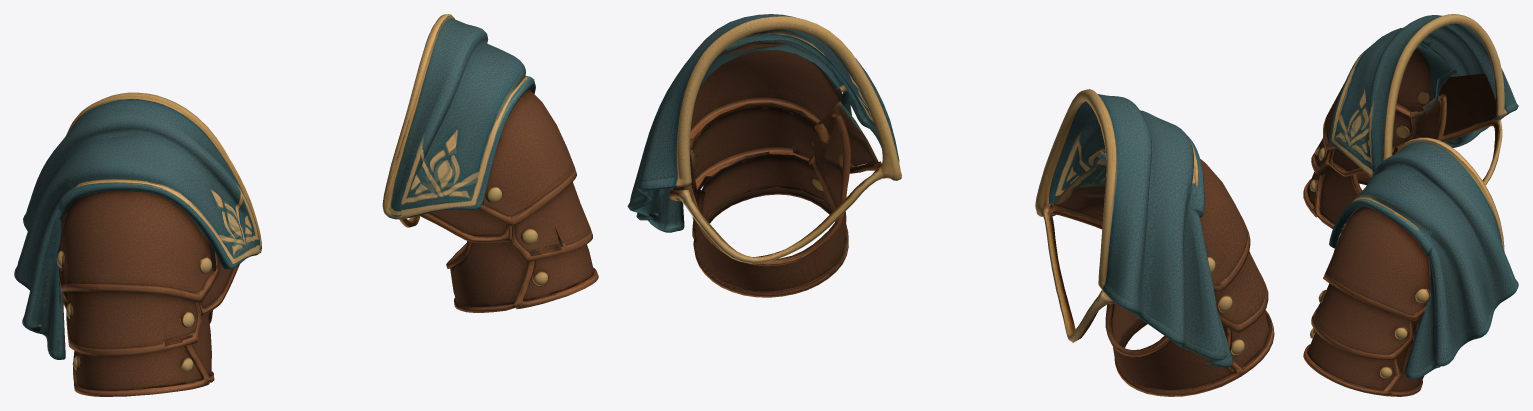
File: warden-pauldrons-tripo.glb
3 renders of one model, left to right at view 1: azimuth 30°, elevation 25°; view 2: azimuth 150°, elevation 25°; view 3: azimuth 270°, elevation 25°, orthographic. The views are drawn at different scales.
Visible parts, largest first — view 1: tripo_node_c613f9e2-db94-4191-80a8-fed7fdbd9cdb; view 2: tripo_node_c613f9e2-db94-4191-80a8-fed7fdbd9cdb; view 3: tripo_node_c613f9e2-db94-4191-80a8-fed7fdbd9cdb.
Part boxes in pixels (left/top/right/bottom): tripo_node_c613f9e2-db94-4191-80a8-fed7fdbd9cdb: left=14, top=14, right=598, bottom=396; tripo_node_c613f9e2-db94-4191-80a8-fed7fdbd9cdb: left=627, top=14, right=1274, bottom=396; tripo_node_c613f9e2-db94-4191-80a8-fed7fdbd9cdb: left=1303, top=14, right=1518, bottom=396.
Bounding box in the file's own units: 0.9995 × 0.481 × 0.4126.
1 material, 1 textured.
